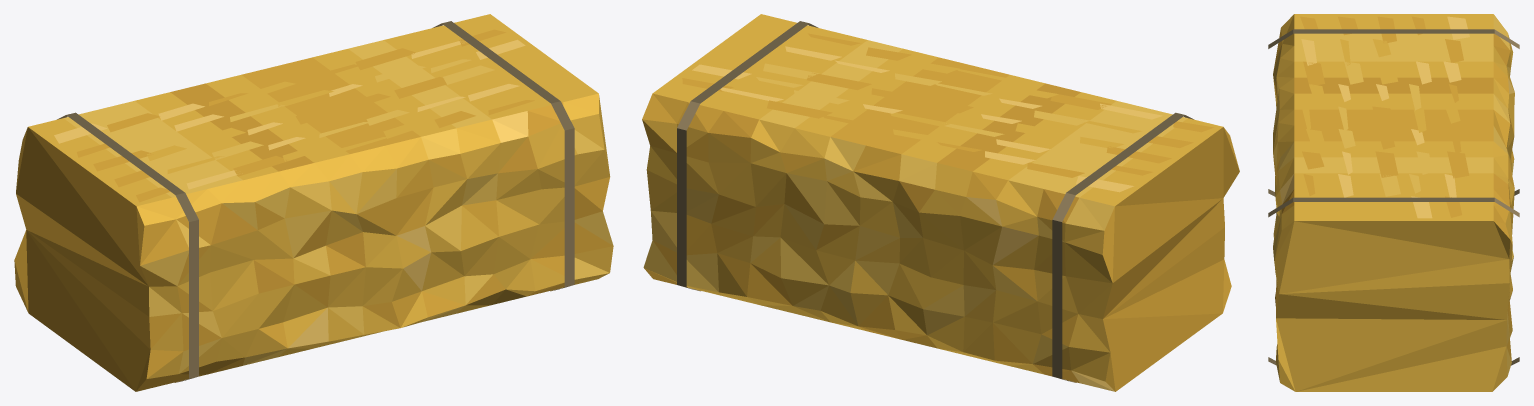
File: ft_hay_bale_h1_v1.glb
The picture shows the model from 3 angles, left to right: view 1: azimuth 30°, elevation 25°; view 2: azimuth 150°, elevation 25°; view 3: azimuth 270°, elevation 25°; orthographic projection. The views are drawn at different scales.
Visible parts, largest first — view 1: ft_hay_bale_h1_v1; view 2: ft_hay_bale_h1_v1; view 3: ft_hay_bale_h1_v1.
Boxes of the visible parts, x1,y1,x2,y2 form: ft_hay_bale_h1_v1: (14, 14, 613, 391); ft_hay_bale_h1_v1: (642, 14, 1239, 391); ft_hay_bale_h1_v1: (1268, 14, 1519, 391).
Size of the model in its own units: 1.2 by 0.455 by 0.6.
1 material, 1 textured.
